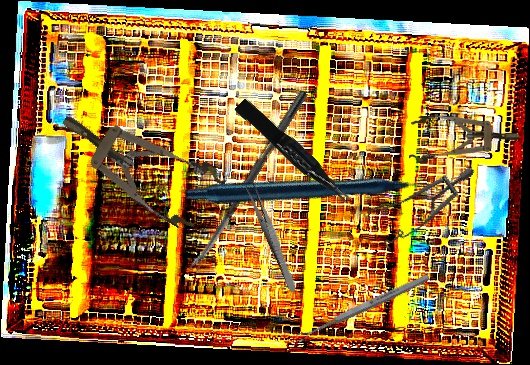Dressing Forceps: (243, 180, 301, 294)
Handpiece: (182, 72, 447, 318)
Speculum: (46, 88, 230, 237), (353, 132, 476, 269), (408, 114, 520, 163)
Surgical Spoon: (188, 89, 308, 273), (295, 272, 431, 343)
Tissue Forceps: (233, 93, 354, 213)
